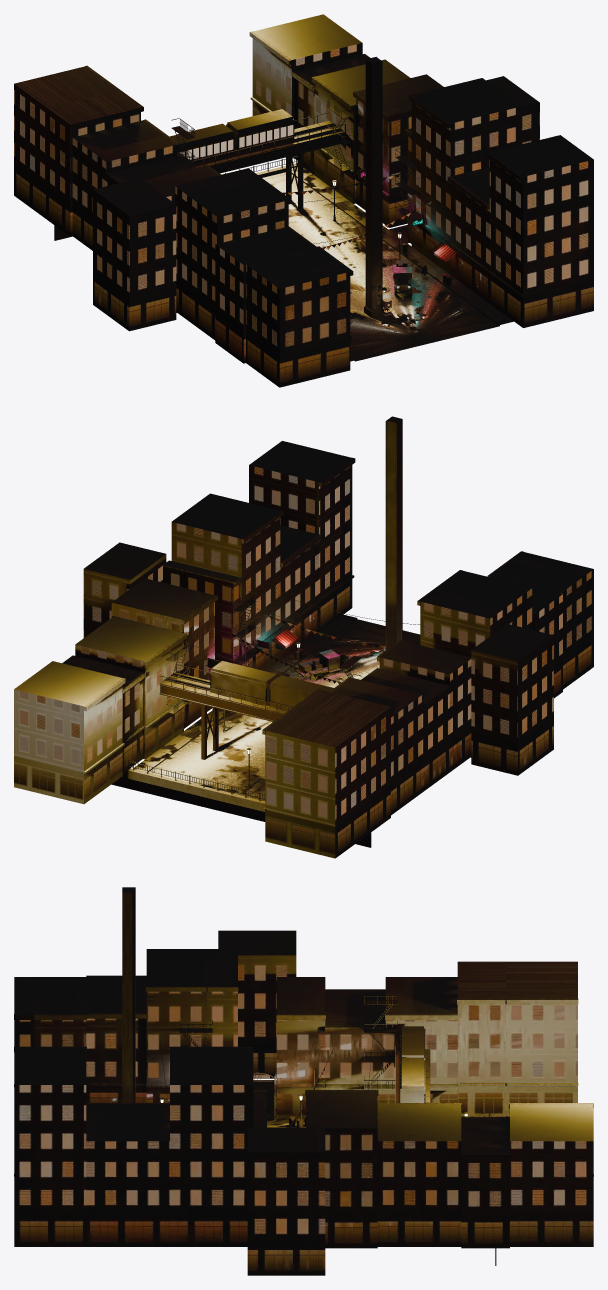
Rendered from street-low.glb.
3 views of the same model, one above another, from view 1: azimuth 30°, elevation 25°; view 2: azimuth 150°, elevation 25°; view 3: azimuth 270°, elevation 25° (orthographic). The views are drawn at different scales.
Parts seen in each view (by area): view 1: Baked_Left, Baked_Right, Baked_GroundNear, Baked_Far, Baked_GroundFar, Baked_Pillar, Baked_Props; view 2: Baked_Right, Baked_Left, Baked_Far, Baked_GroundFar, Baked_GroundNear, Baked_Pillar, Baked_Props; view 3: Baked_Right, Baked_Left, Baked_Pillar, Baked_Far, Baked_GroundFar.
Boxes of the visible parts, x1,y1,x2,y2 form: Baked_Left: (14, 65, 353, 387); Baked_Right: (249, 14, 593, 327); Baked_GroundNear: (301, 227, 513, 361); Baked_Far: (54, 109, 345, 240); Baked_GroundFar: (176, 166, 427, 312); Baked_Pillar: (364, 56, 386, 317); Baked_Props: (182, 126, 452, 300); Baked_Right: (14, 441, 355, 804); Baked_Left: (262, 551, 593, 858); Baked_Far: (111, 660, 371, 847); Baked_GroundFar: (133, 709, 471, 800); Baked_GroundNear: (244, 614, 420, 733); Baked_Pillar: (385, 416, 402, 649); Baked_Props: (191, 595, 419, 788); Baked_Right: (14, 1046, 593, 1275); Baked_Left: (14, 930, 578, 1127); Baked_Pillar: (122, 887, 135, 1102); Baked_Far: (395, 1026, 496, 1265); Baked_GroundFar: (253, 1080, 305, 1127).
Size of the model in its own units: 54 by 32.82 by 59.7.
Materials: 19 (7 with a texture image).
